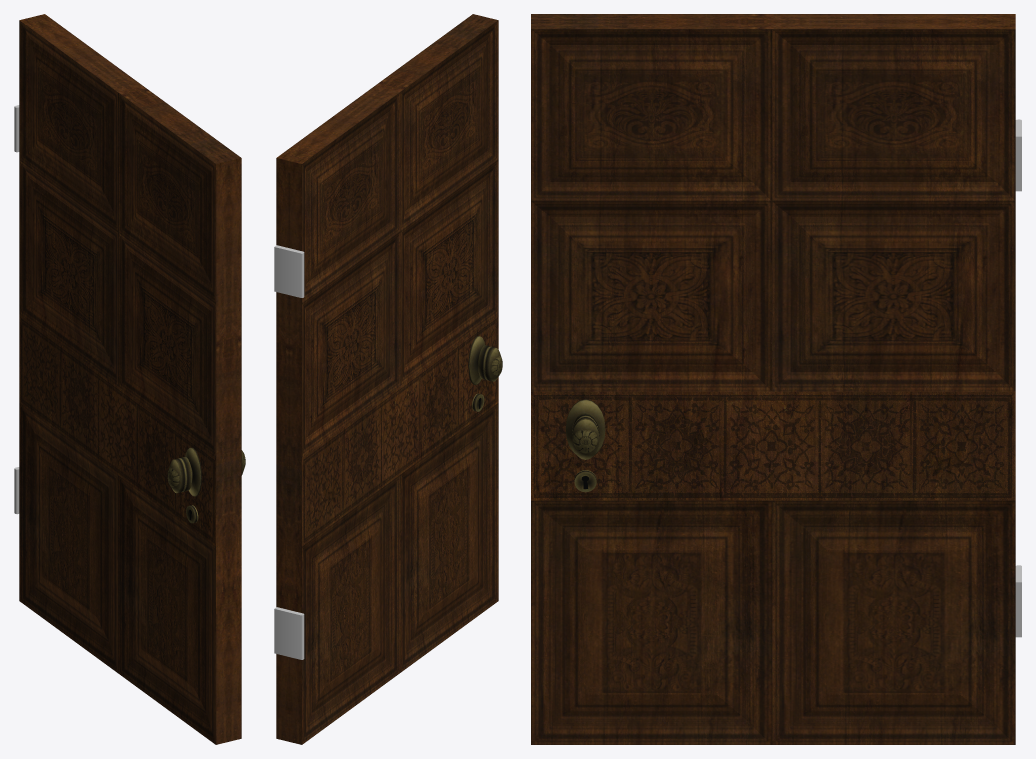
The model's file is wood_panneling_door_01.DAE.
3 renders of one model, left to right at view 1: azimuth 30°, elevation 25°; view 2: azimuth 150°, elevation 25°; view 3: azimuth 270°, elevation 25°, orthographic. The views are drawn at different scales.
Parts seen in each view (by area): view 1: door; view 2: door, hinges_frame; view 3: door, hinges_frame.
Boxes of the visible parts, <box> form: door: <box>19,14,245,744</box>; door: <box>276,14,502,744</box>; hinges_frame: <box>274,245,304,659</box>; door: <box>531,14,1015,744</box>; hinges_frame: <box>1015,119,1021,637</box>.
Size of the model in its own units: 0.3694 by 2.83 by 1.76.
